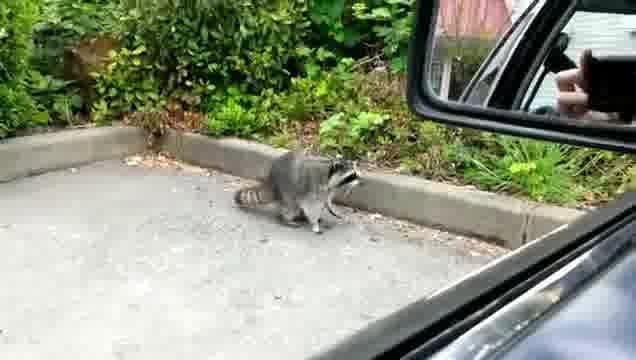raccoon: (232, 151, 372, 236)
